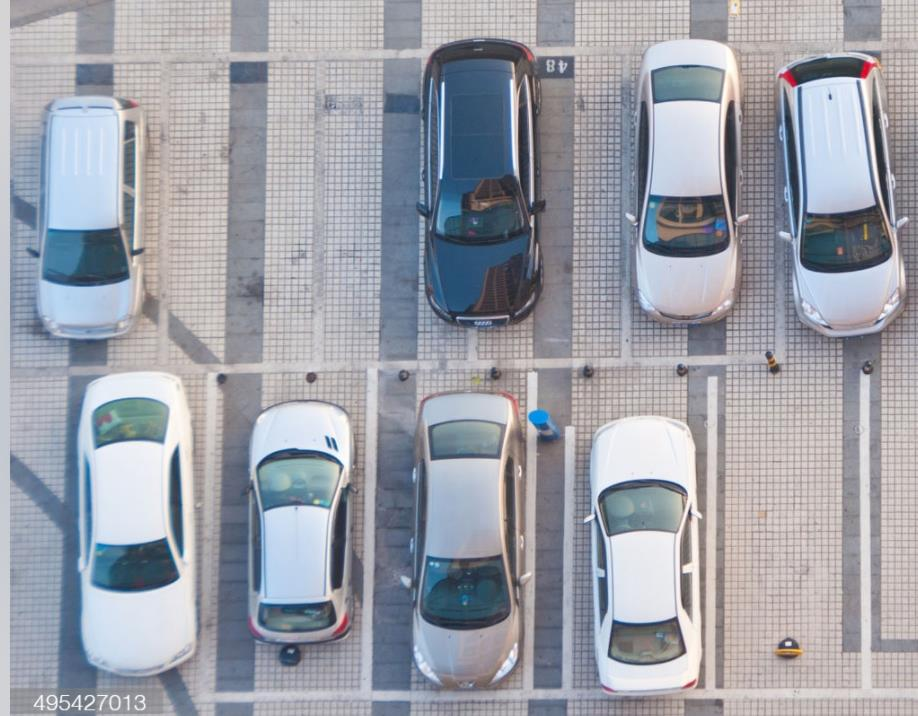car: (69, 371, 200, 677), (774, 50, 911, 342), (400, 390, 532, 692), (416, 35, 546, 332), (623, 38, 751, 330), (584, 412, 710, 697), (26, 91, 148, 340), (237, 399, 356, 643)
